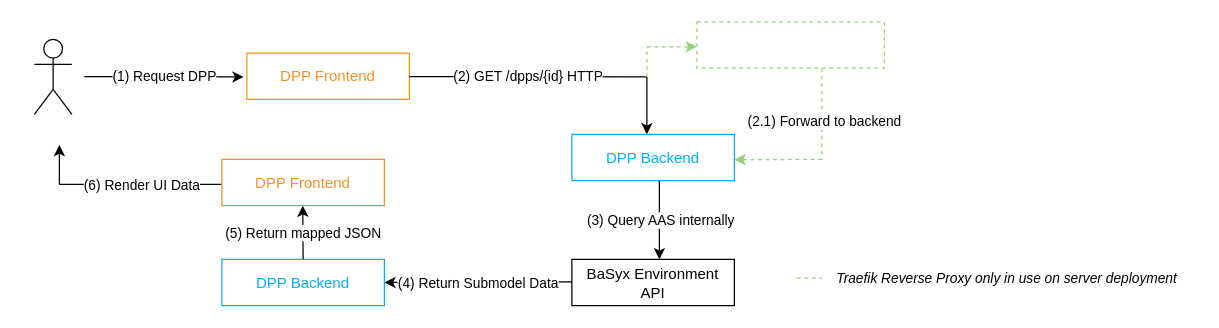
This 1219x328 diagram has some shape labels left out. Here are the shapes that lost their labels. From the top down, the centre of each, then its label:
the point at 790,44: Traefik Reverse Proxy
the point at 52,76: End User
